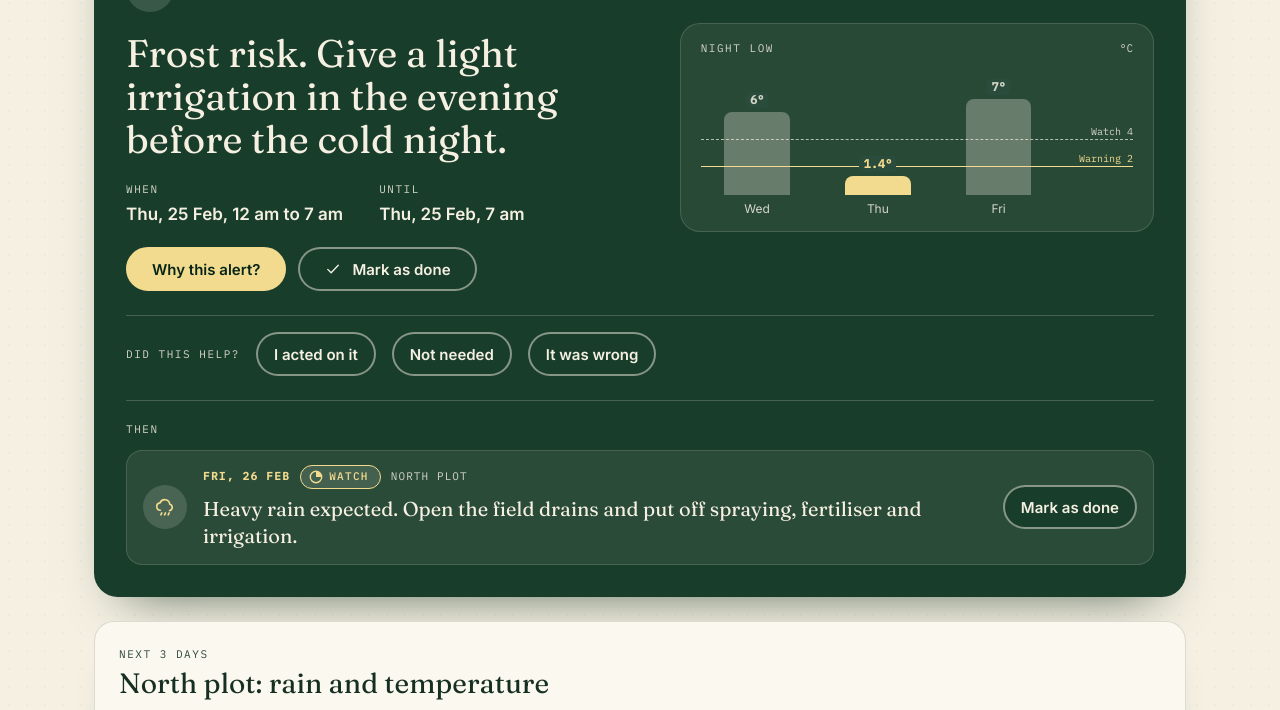
Test: Did this help? › an answer goes to the server with the alert, its level and the field; then a thank-you replaces the buttons
(page scrolled)
Click the button "I acted on it": (316, 354) [256,332,376,376]
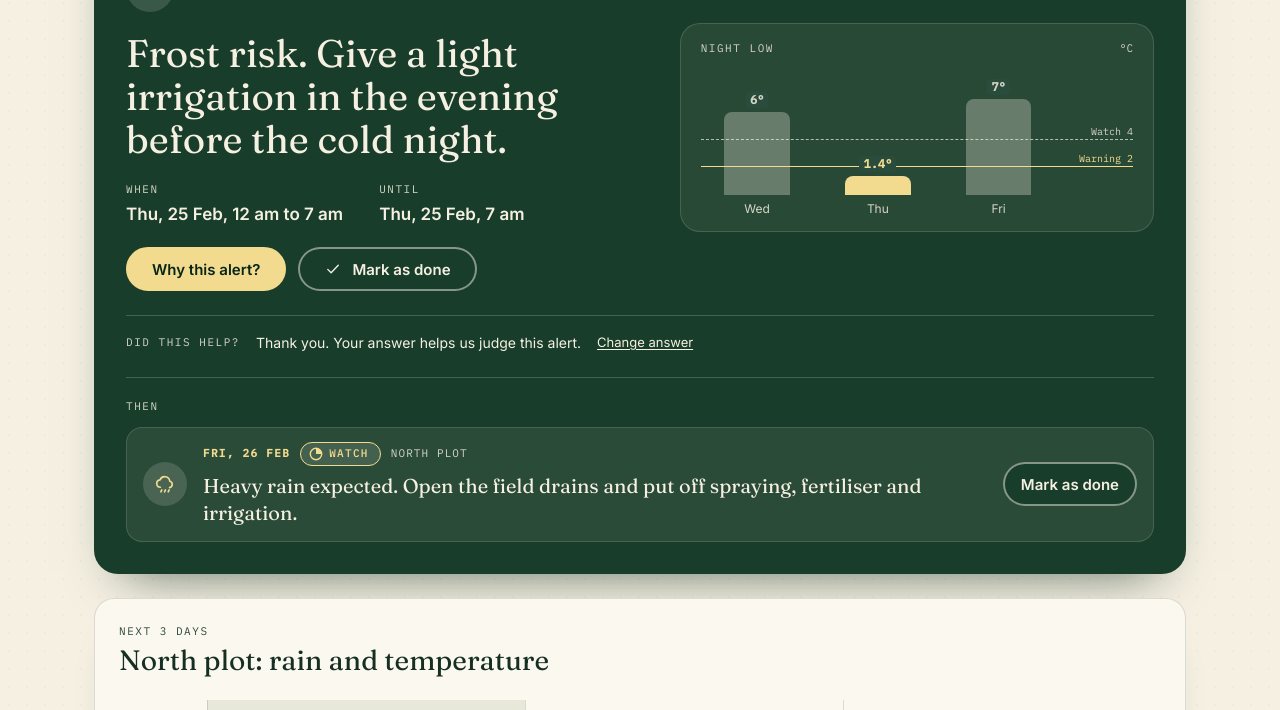
Expected: the text "Thank you. Your answer helps us judge this alert." is shown, [256,332,581,353]
Expected: the button "Not needed" is gone
